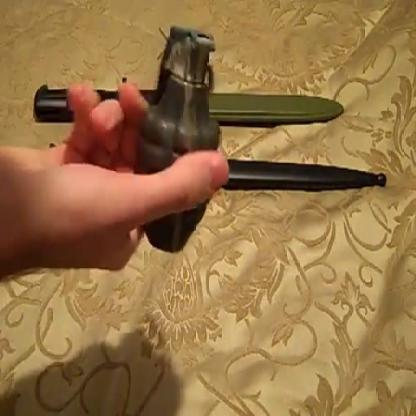Grenade: (133, 24, 223, 255)
Knife: (34, 84, 346, 127), (223, 158, 388, 193)
